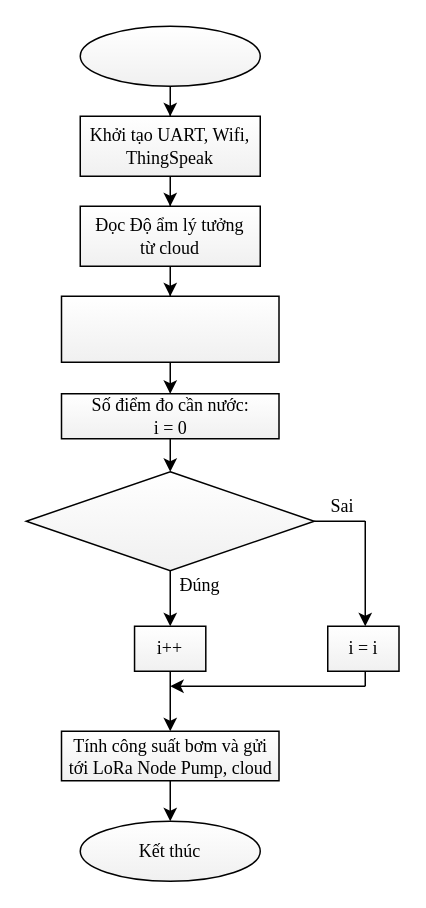
The diagram is 426 pixels wide and 908 high, and some of its shapes have lost their labels. The shapes that lost their labels are listed below. From the top down, each one's centre as x and y in pixels, then its label:
At pixel 169 55: "Bắt đầu".
At pixel 169 328: "Truyền Độ ẩm lý tưởng và nhận Độ ẩm tới/từ LoRa Node Point".
At pixel 169 520: "3% < Độ ẩm < Độ ẩm lý tưởng".
